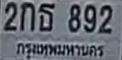2: (98, 4, 112, 33), (4, 2, 17, 31)
8: (68, 4, 81, 33)
9: (83, 4, 96, 33)
A01: (20, 1, 35, 31)
A24: (38, 2, 55, 32)
BKK: (12, 39, 103, 59)
